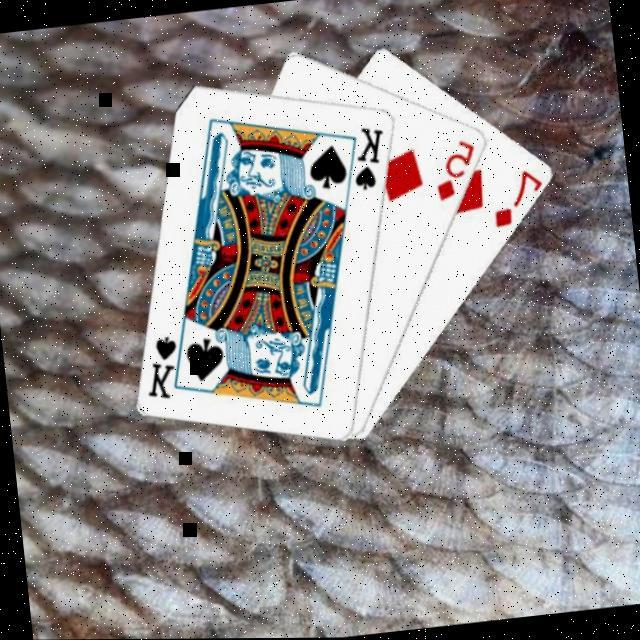5D: (426, 136, 481, 207)
7D: (485, 166, 547, 234)
KS: (137, 328, 192, 404), (344, 122, 391, 195)
